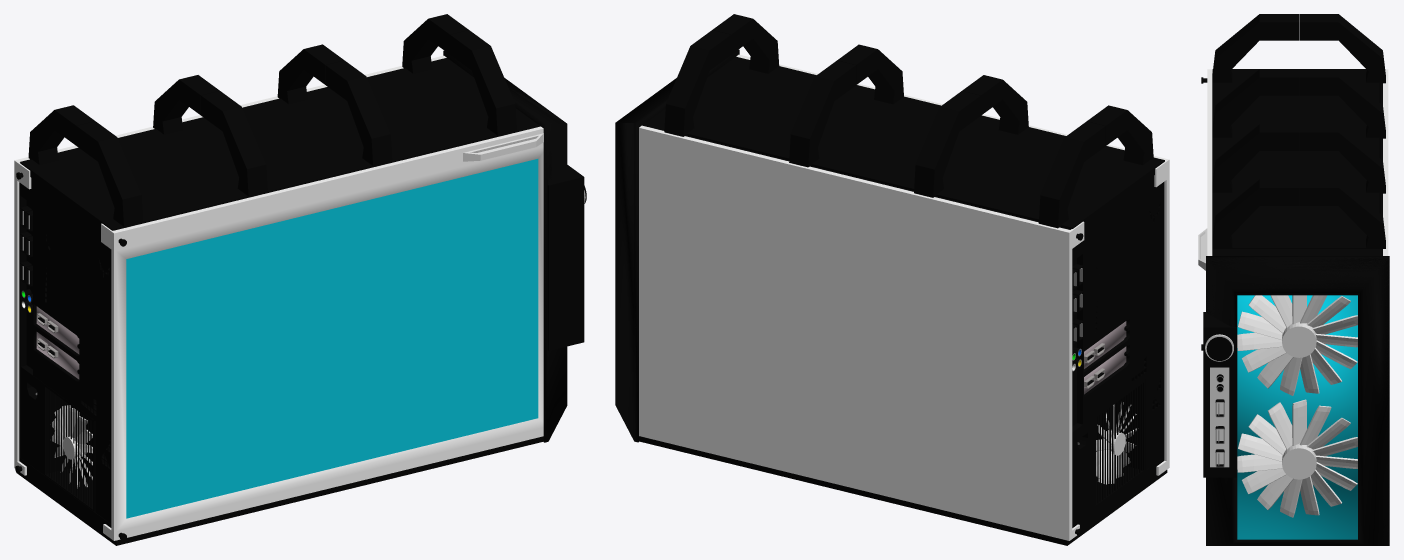
Rendered from case4.fbx.
3 renders of one model, left to right at view 1: azimuth 30°, elevation 25°; view 2: azimuth 150°, elevation 25°; view 3: azimuth 270°, elevation 25°, orthographic. The views are drawn at different scales.
Parts seen in each view (by area): view 1: right, Plane, Plane.003, back, Plane.001, power, left, Plane.002, powerfan; view 2: left, Plane, Plane.003, back, power, Plane.002, Plane.001, right, powerfan; view 3: Plane.003, Plane.002, Plane, front, powerfan.002, powerfan.001, Plane.001, USB, right, left, powerbutton.
Part boxes in pixels (box(x1,y1,x2,y2)): right: box(101, 126, 543, 540); Plane: box(16, 58, 543, 545); Plane.003: box(28, 14, 516, 227); back: box(19, 200, 111, 523); Plane.001: box(443, 50, 584, 442); power: box(21, 365, 95, 511); left: box(14, 55, 446, 475); Plane.002: box(509, 88, 567, 442); powerfan: box(52, 405, 92, 488); left: box(639, 125, 1084, 540); Plane: box(639, 56, 1167, 545); Plane.003: box(664, 14, 1153, 228); back: box(1072, 195, 1162, 470); power: box(1072, 379, 1145, 523); Plane.002: box(615, 122, 637, 441); Plane.001: box(616, 49, 739, 442); right: box(736, 54, 1169, 475); powerfan: box(1096, 402, 1136, 484); Plane.003: box(1212, 14, 1385, 248); Plane.002: box(1206, 257, 1389, 545); Plane: box(1212, 69, 1382, 255); front: box(1237, 295, 1357, 539); powerfan.002: box(1237, 399, 1357, 517); powerfan.001: box(1237, 295, 1357, 395); Plane.001: box(1203, 256, 1389, 545); USB: box(1205, 334, 1233, 467); right: box(1198, 69, 1212, 270); left: box(1383, 69, 1388, 255); powerbutton: box(1206, 337, 1232, 360).
Bounding box in the file's own units: 27.68 × 21.06 × 10.55.
